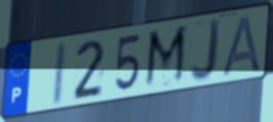2: (70, 38, 107, 103)
5: (113, 32, 142, 93)
A: (220, 12, 263, 78)
I: (50, 39, 69, 108)
J: (188, 17, 223, 84)
M: (142, 23, 189, 92)
